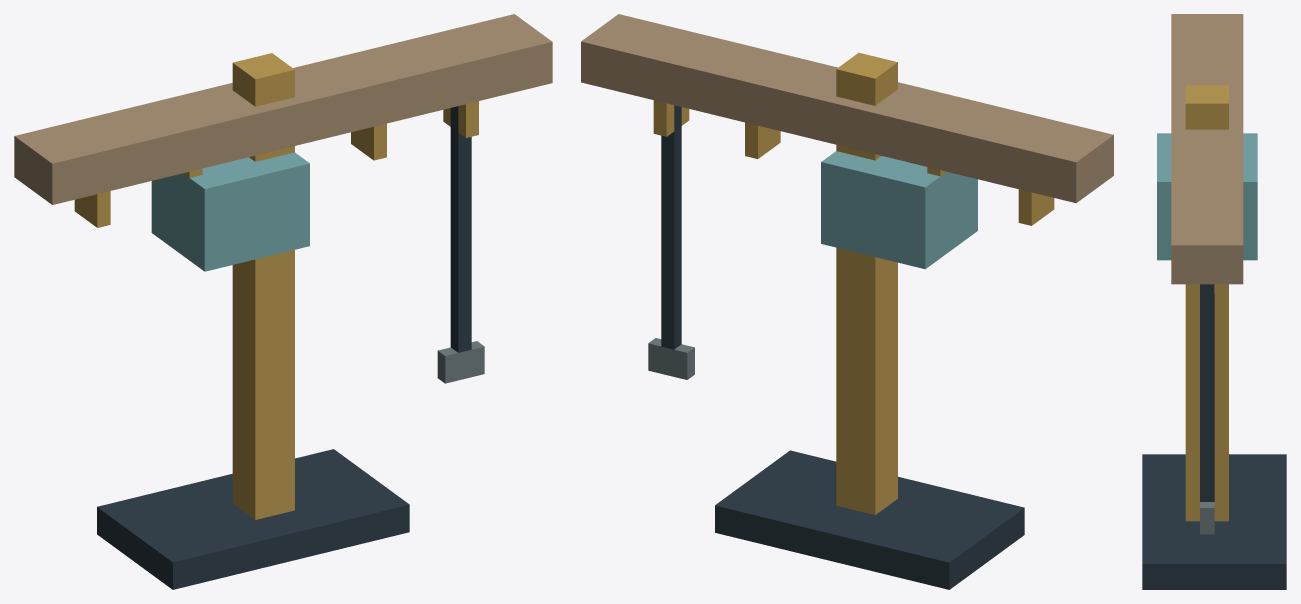
Rendered from architecture-11.glb.
The picture shows the model from 3 angles, left to right: view 1: azimuth 30°, elevation 25°; view 2: azimuth 150°, elevation 25°; view 3: azimuth 270°, elevation 25°; orthographic projection. The views are drawn at different scales.
Visible parts, largest first — view 1: Site crane; view 2: Site crane; view 3: Site crane.
Boxes of the visible parts, left/top/right/bottom form: Site crane: left=14, top=14, right=552, bottom=589; Site crane: left=581, top=14, right=1113, bottom=589; Site crane: left=1142, top=14, right=1286, bottom=589.
Bounding box in the file's own units: 3.04 × 2.72 × 0.8.
